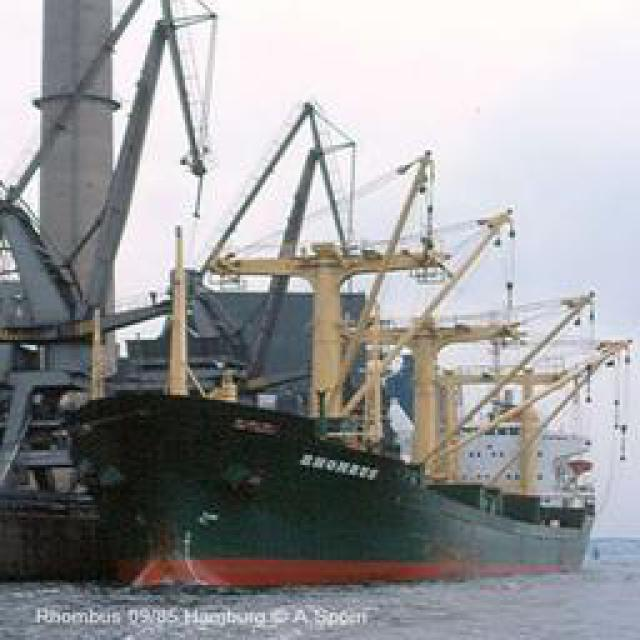Ship: (21, 80, 616, 595)
